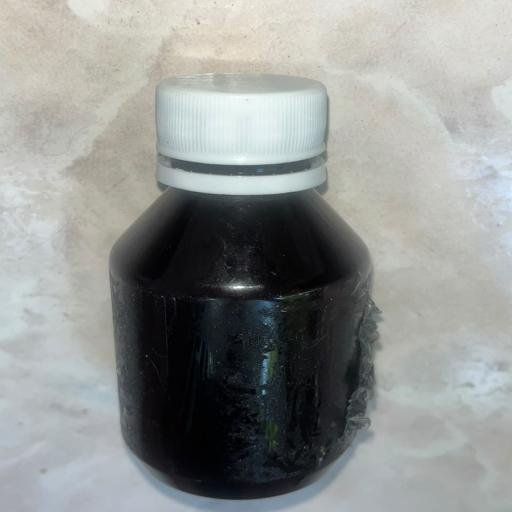HDPE: (57, 33, 453, 512)
